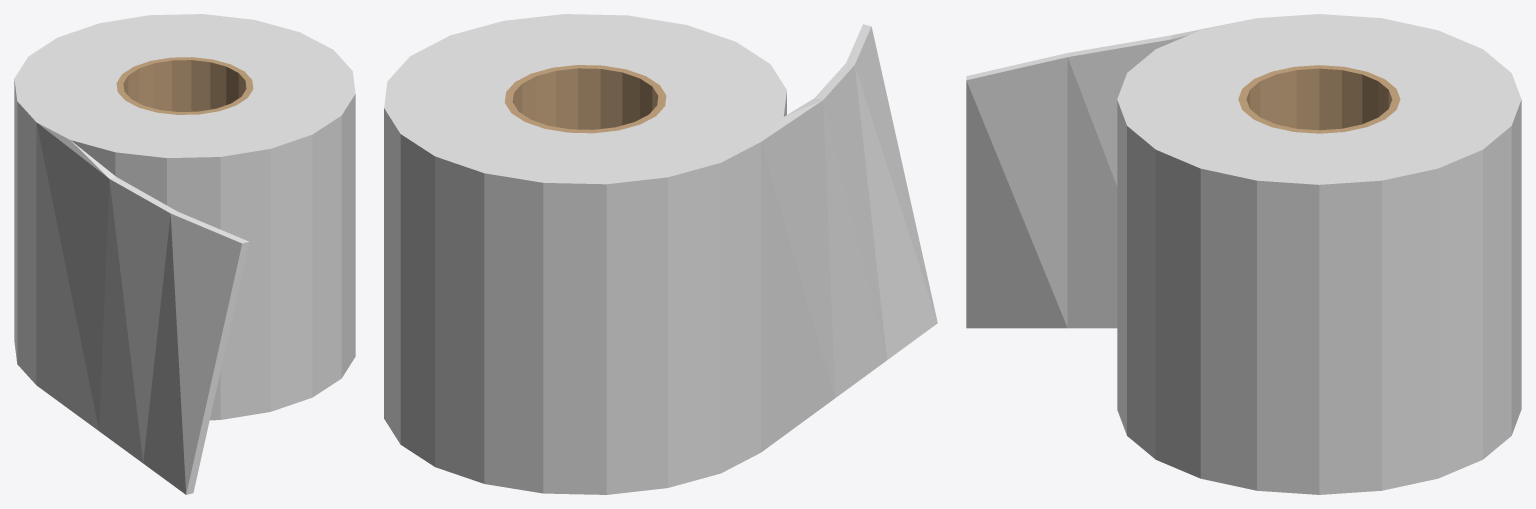
Rendered from toiletPaper.glb.
The picture shows the model from 3 angles, left to right: view 1: azimuth 30°, elevation 25°; view 2: azimuth 150°, elevation 25°; view 3: azimuth 270°, elevation 25°; orthographic projection. The views are drawn at different scales.
Visible parts, largest first — view 1: node-0; view 2: node-0; view 3: node-0.
Boxes of the visible parts, x1,y1,x2,y2 form: node-0: (14, 14, 355, 494); node-0: (384, 14, 937, 494); node-0: (966, 14, 1521, 494).
Bounding box in the file's own units: 23.4 × 19.8 × 32.13.
1 material, 1 textured.
